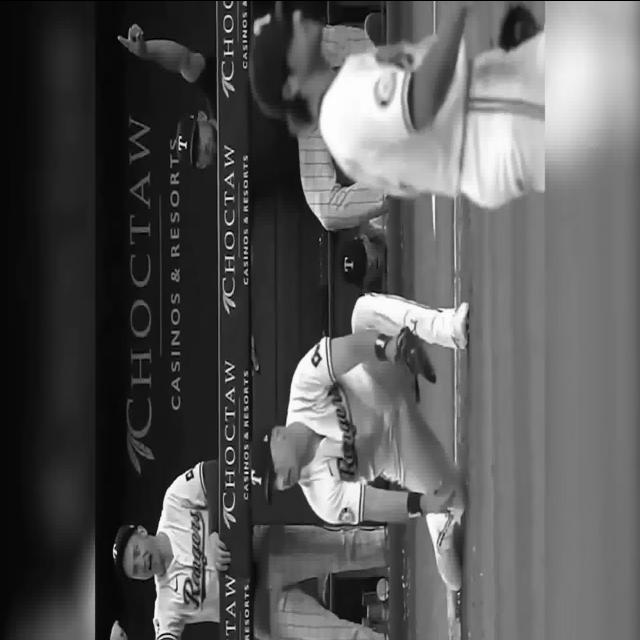base: (446, 589, 462, 640)
baseball_glove: (396, 324, 436, 382)
shoe: (426, 513, 462, 591), (452, 300, 469, 349)
